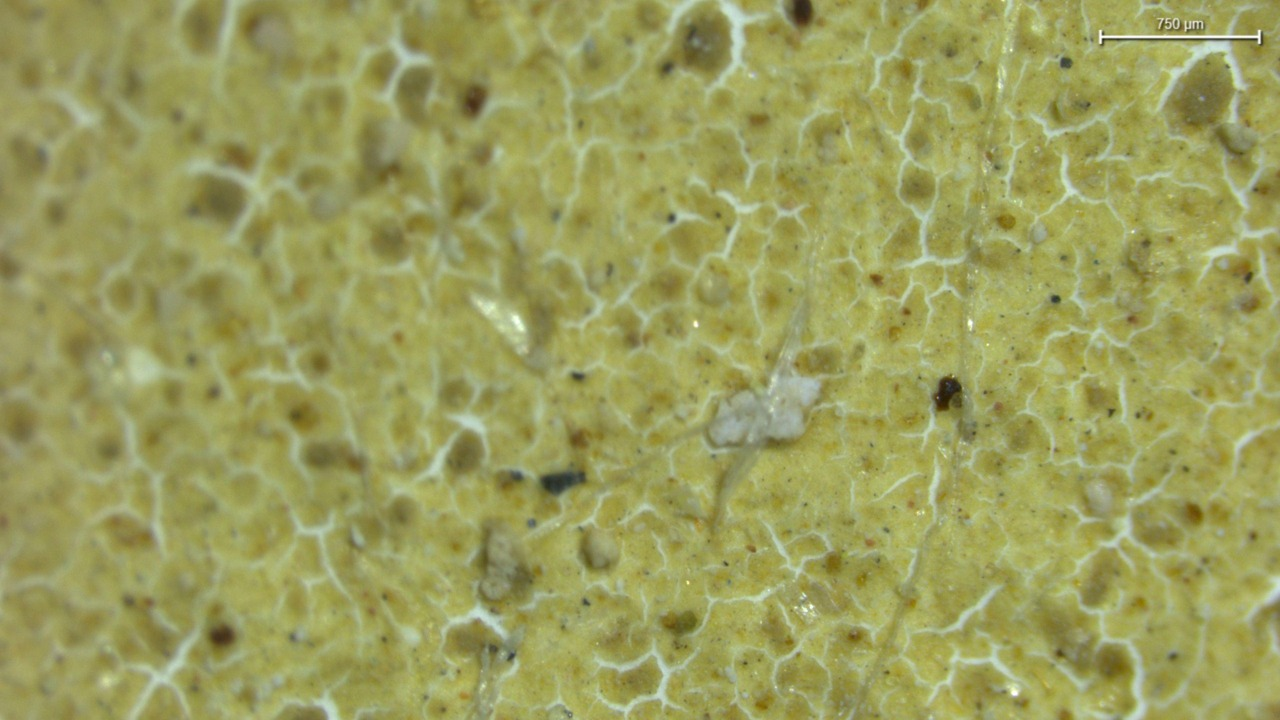microplastic_fragment: (707, 357, 820, 449), (578, 527, 620, 570)
